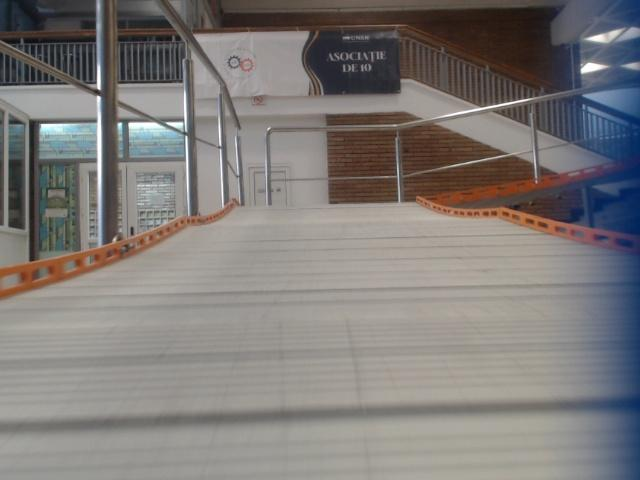rampUp: (0, 199, 639, 479)
ramps-railing: (0, 0, 160, 234), (265, 89, 584, 187), (156, 0, 244, 212), (263, 125, 395, 205)
